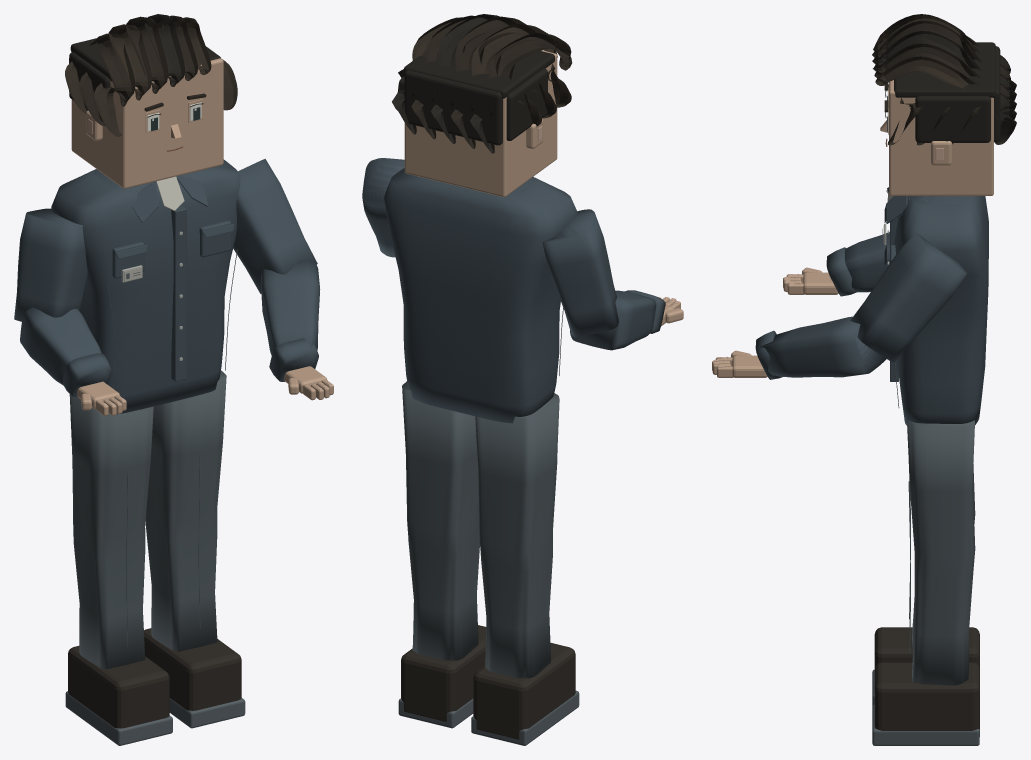
The model's file is officer-pilot.glb.
3 views of the same model, side by side, from view 1: azimuth 30°, elevation 25°; view 2: azimuth 150°, elevation 25°; view 3: azimuth 270°, elevation 25° (orthographic).
Parts seen in each view (by area): view 1: tailored_jacket, trouser_l, trouser_r, head, upper_sleeve_l, upper_sleeve_r, boot_l, boot_r, forearm_sleeve_r, forearm_sleeve_l, jacket_placket, sole_l (+21 smaller); view 2: tailored_jacket, trouser_l, trouser_r, head, upper_sleeve_l, boot_l, boot_r, hair_nape_base, hair_understructure, forearm_sleeve_l, upper_sleeve_r, temple_base_-1 (+7 smaller); view 3: trouser_r, tailored_jacket, upper_sleeve_r, head, boot_r, forearm_sleeve_r, temple_base_1, hair_understructure, forearm_sleeve_l, boot_l, sole_r, swept_crown_05 (+10 smaller).
Part boxes in pixels (box(x1,y1,x2,y2)): tailored_jacket: box(51, 159, 240, 414); trouser_l: box(69, 394, 153, 668); trouser_r: box(145, 370, 226, 651); head: box(71, 58, 223, 188); upper_sleeve_l: box(14, 208, 87, 321); upper_sleeve_r: box(233, 158, 317, 293); boot_l: box(68, 646, 169, 728); boot_r: box(144, 628, 241, 710); forearm_sleeve_r: box(261, 260, 320, 367); forearm_sleeve_l: box(20, 307, 101, 385); jacket_placket: box(171, 206, 186, 381); sole_l: box(65, 691, 172, 745); tailored_jacket: box(383, 168, 577, 423); trouser_l: box(475, 393, 559, 678); trouser_r: box(402, 381, 479, 660); head: box(404, 50, 557, 197); upper_sleeve_l: box(542, 209, 618, 337); boot_l: box(473, 642, 575, 739); boot_r: box(401, 625, 486, 721); hair_nape_base: box(404, 70, 502, 145); hair_understructure: box(404, 51, 554, 98); forearm_sleeve_l: box(570, 290, 656, 350); upper_sleeve_r: box(362, 158, 404, 257); temple_base_-1: box(506, 68, 547, 140); trouser_r: box(907, 420, 975, 685); tailored_jacket: box(894, 196, 988, 425); upper_sleeve_r: box(850, 232, 967, 362); head: box(889, 80, 993, 195); boot_r: box(874, 662, 979, 736); forearm_sleeve_r: box(760, 316, 886, 377); temple_base_1: box(915, 96, 990, 142); hair_understructure: box(894, 42, 995, 97); forearm_sleeve_l: box(845, 232, 889, 292); boot_l: box(874, 627, 979, 668); sole_r: box(872, 704, 979, 745); swept_crown_05: box(875, 56, 979, 88).
Size of the model in its own units: 0.753 by 1.87 by 0.7528.
Materials: 14 (1 with a texture image).
